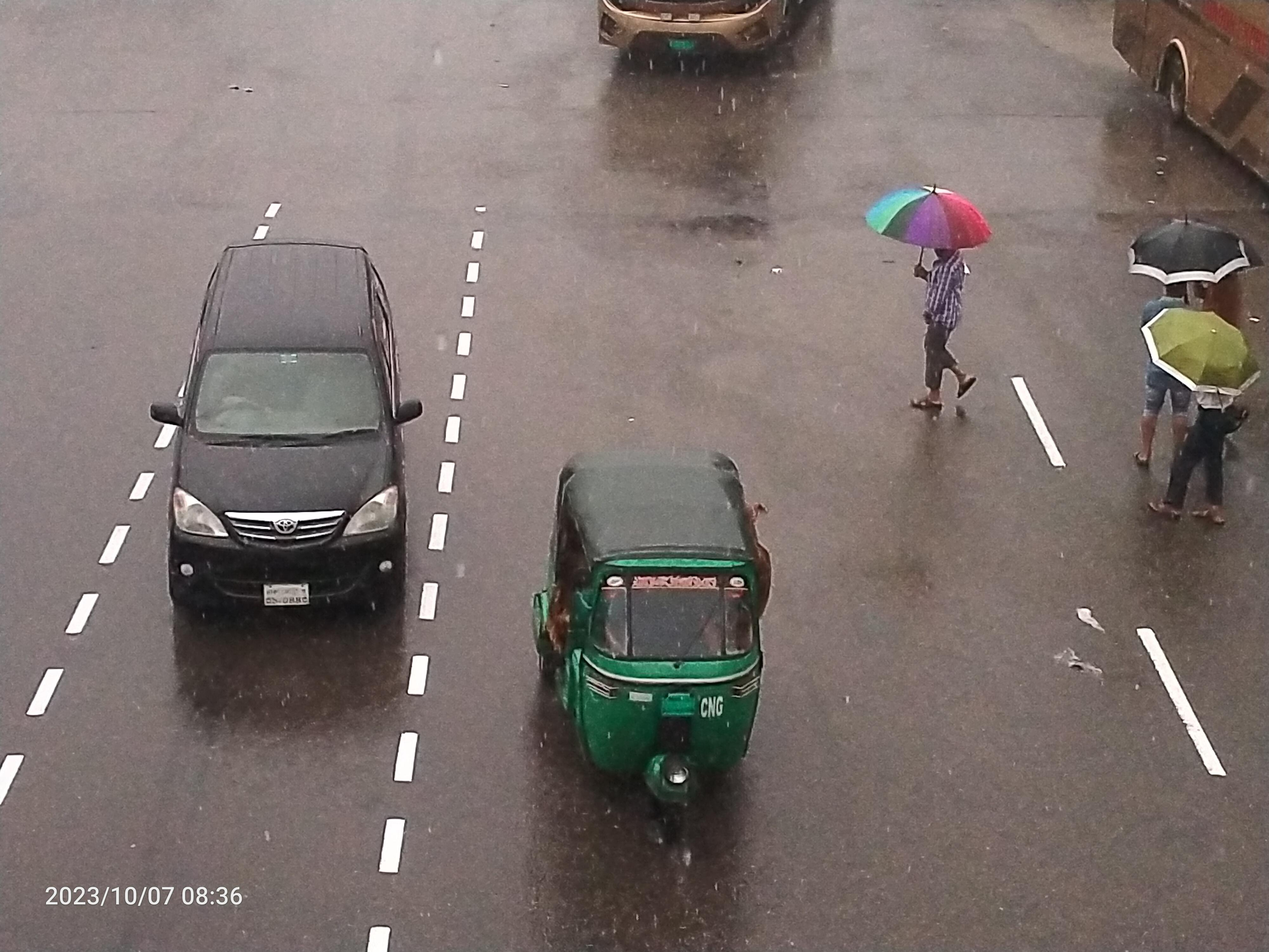Bus: (1063, 0, 1269, 248), (567, 0, 878, 121)
Car: (91, 152, 458, 675)
